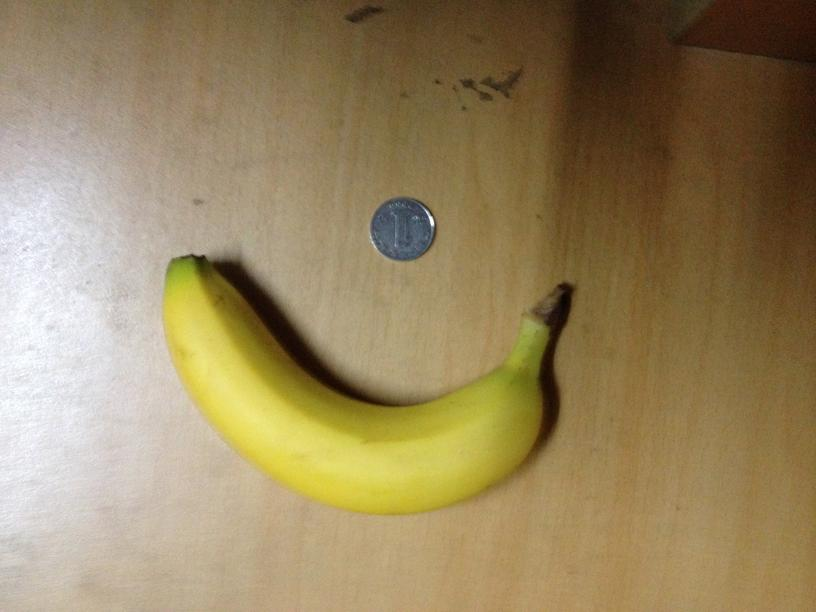banana: (158, 261, 543, 513)
coin: (368, 198, 435, 260)
